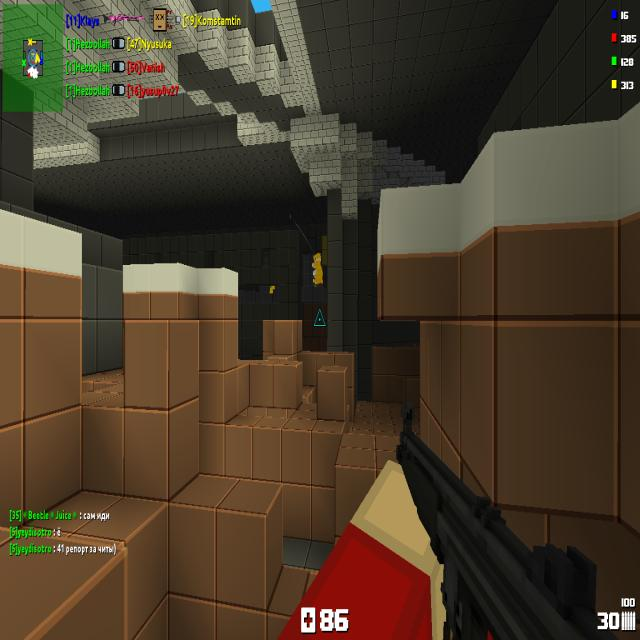enemy: (312, 253, 323, 286), (313, 269, 316, 287), (270, 286, 275, 294)
